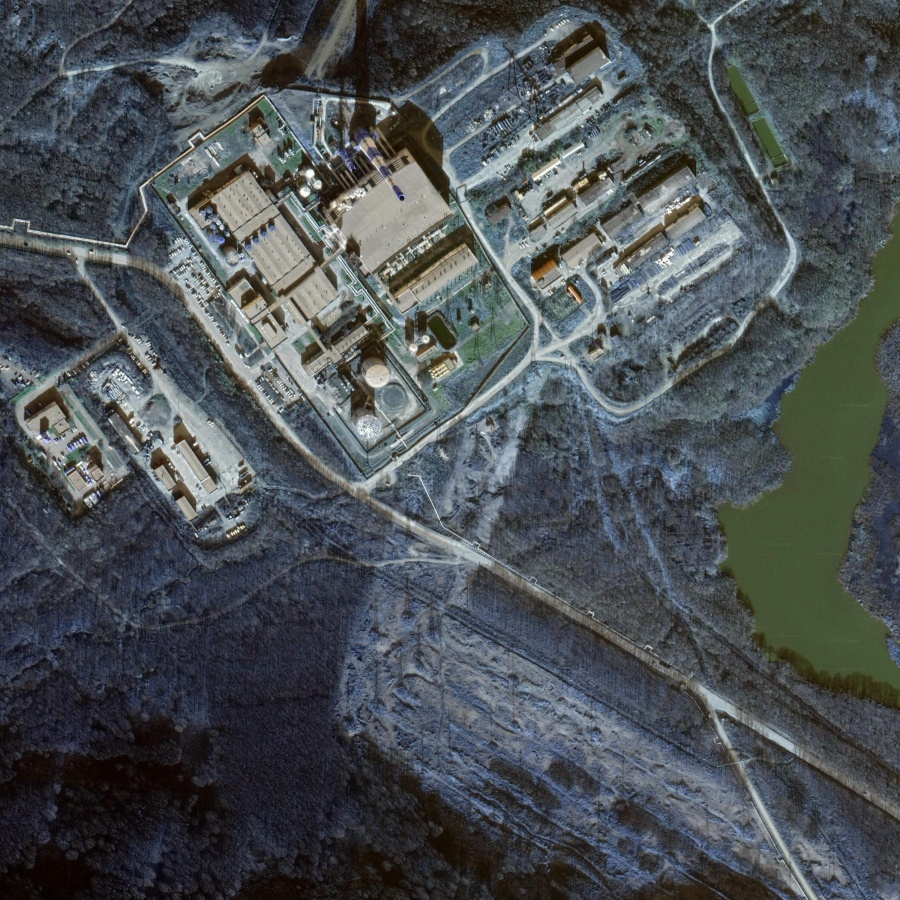PowerPlant: (186, 80, 501, 444)
